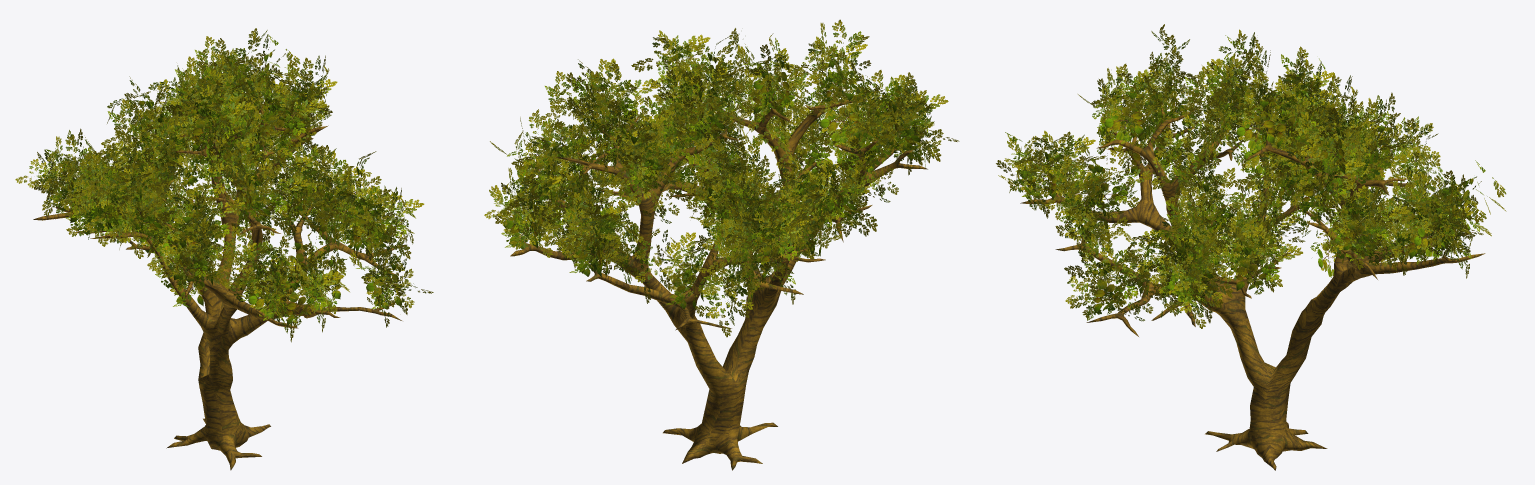
The model's file is pau-brasil.fbx.
The picture shows the model from 3 angles, left to right: view 1: azimuth 30°, elevation 25°; view 2: azimuth 150°, elevation 25°; view 3: azimuth 270°, elevation 25°; orthographic projection. The views are drawn at different scales.
Visible parts, largest first — view 1: tree1, tree1.002; view 2: tree1, tree1.002; view 3: tree1, tree1.002.
Part boxes in pixels (x1,y1,x2,y2): tree1: (15, 28, 433, 342); tree1.002: (33, 98, 405, 470); tree1: (484, 19, 959, 337); tree1.002: (510, 80, 927, 470); tree1: (996, 24, 1506, 328); tree1.002: (1020, 92, 1485, 470).
Bounding box in the file's own units: 3343 × 3748 × 4415.
Materials: 2 (2 with a texture image).
